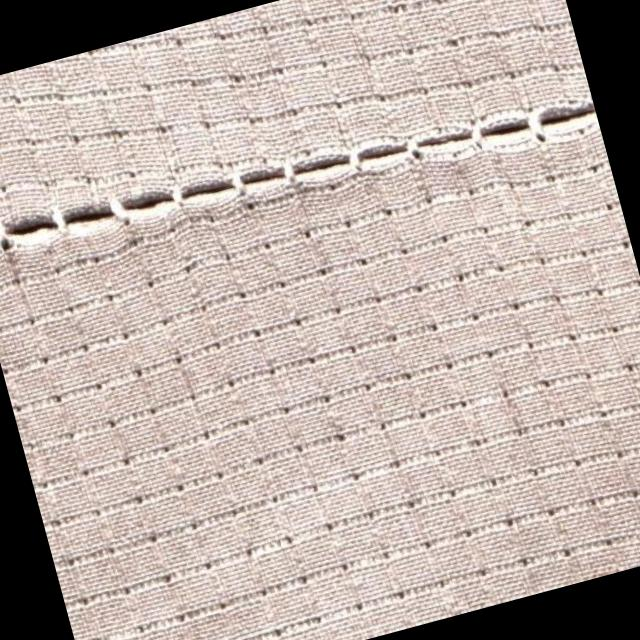gray stitch: (0, 60, 560, 297)
